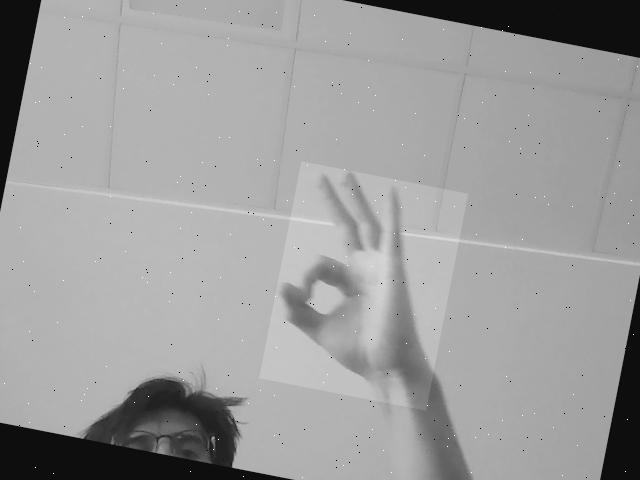OK: (274, 170, 432, 401)
